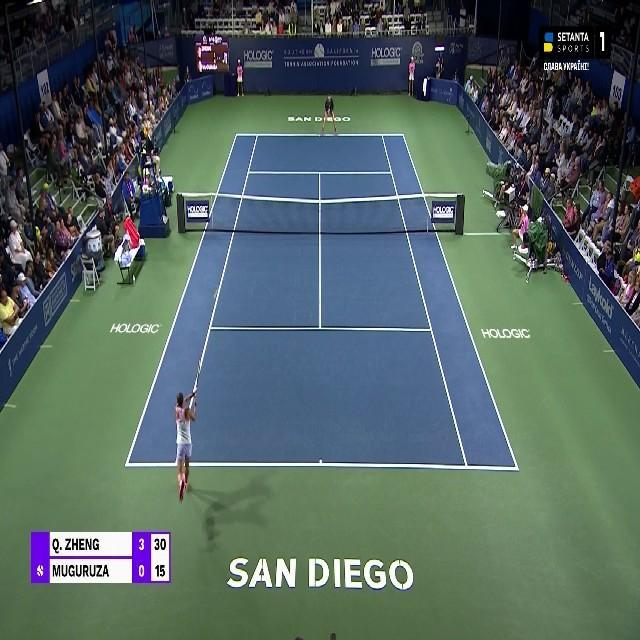left side: (381, 135, 519, 469), (125, 134, 258, 466)
player: (168, 382, 201, 503), (318, 94, 340, 132)
